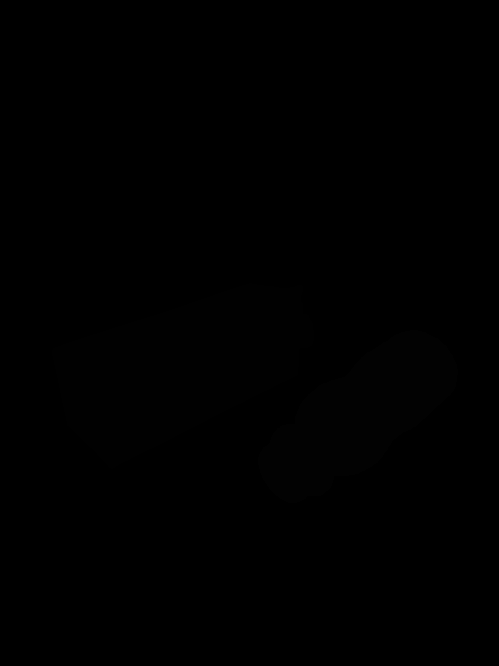carton: (49, 282, 317, 472)
milk_bottle: (255, 328, 461, 507)
